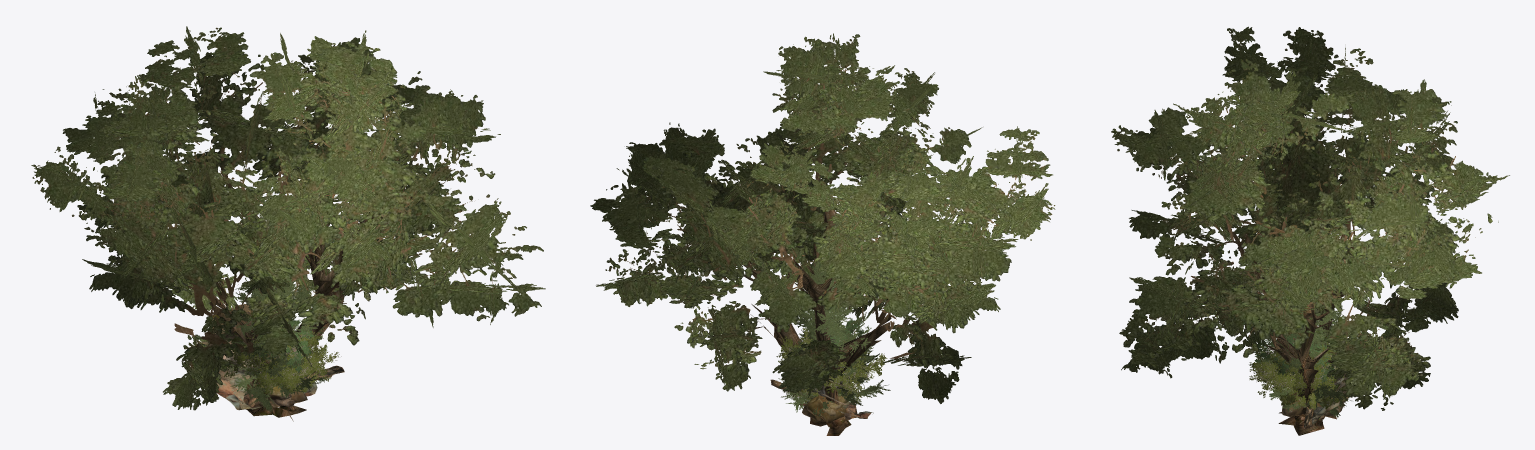
The picture shows the model from 3 angles, left to right: view 1: azimuth 30°, elevation 25°; view 2: azimuth 150°, elevation 25°; view 3: azimuth 270°, elevation 25°; orthographic projection. The views are drawn at different scales.
Visible parts, largest first — view 1: laub4_krone, tanne1_krone, laub1_krone, felswand_m0, laub4_m0, laub2_krone, kahl1_m0, tanne2_krone, laub5_krone; view 2: laub4_krone, tanne1_krone, kahl1_m0, laub4_m0, laub2_krone, tanne2_krone, laub1_krone, moosfels2_m0; view 3: laub4_krone, laub4_m0, tanne1_krone, laub2_krone, laub1_krone, kahl1_m0, laub5_krone, tanne2_krone, laub3_krone.
Boxes of the visible parts, left/top/right/bottom form: laub4_krone: left=31, top=26, right=545, bottom=410; tanne1_krone: left=221, top=262, right=326, bottom=411; laub1_krone: left=236, top=340, right=341, bottom=394; felswand_m0: left=201, top=304, right=317, bottom=410; laub4_m0: left=211, top=212, right=344, bottom=421; laub2_krone: left=224, top=290, right=325, bottom=388; kahl1_m0: left=209, top=213, right=373, bottom=411; tanne2_krone: left=230, top=279, right=320, bottom=398; laub5_krone: left=251, top=316, right=314, bottom=372; laub4_krone: left=590, top=33, right=1055, bottom=403; tanne1_krone: left=778, top=260, right=890, bottom=416; kahl1_m0: left=743, top=205, right=891, bottom=427; laub4_m0: left=744, top=213, right=890, bottom=435; laub2_krone: left=776, top=328, right=865, bottom=403; tanne2_krone: left=786, top=278, right=869, bottom=412; laub1_krone: left=832, top=349, right=887, bottom=392; moosfels2_m0: left=806, top=395, right=846, bottom=422; laub4_krone: left=1111, top=26, right=1509, bottom=410; laub4_m0: left=1252, top=263, right=1344, bottom=435; tanne1_krone: left=1255, top=290, right=1351, bottom=412; laub2_krone: left=1267, top=334, right=1352, bottom=410; laub1_krone: left=1249, top=349, right=1328, bottom=397; kahl1_m0: left=1254, top=232, right=1370, bottom=424; laub5_krone: left=1251, top=334, right=1334, bottom=387; tanne2_krone: left=1269, top=306, right=1346, bottom=417; laub3_krone: left=1279, top=375, right=1335, bottom=410.
Bounding box in the file's own units: 25.4 × 20.07 × 20.53.
54 materials, 54 textured.
